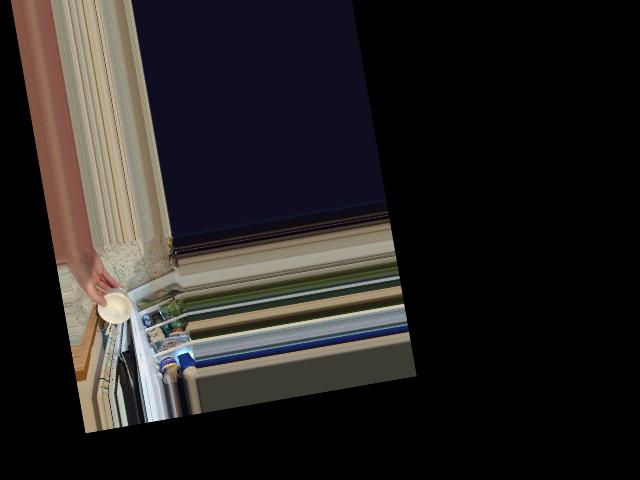cotage: (98, 287, 133, 325)
